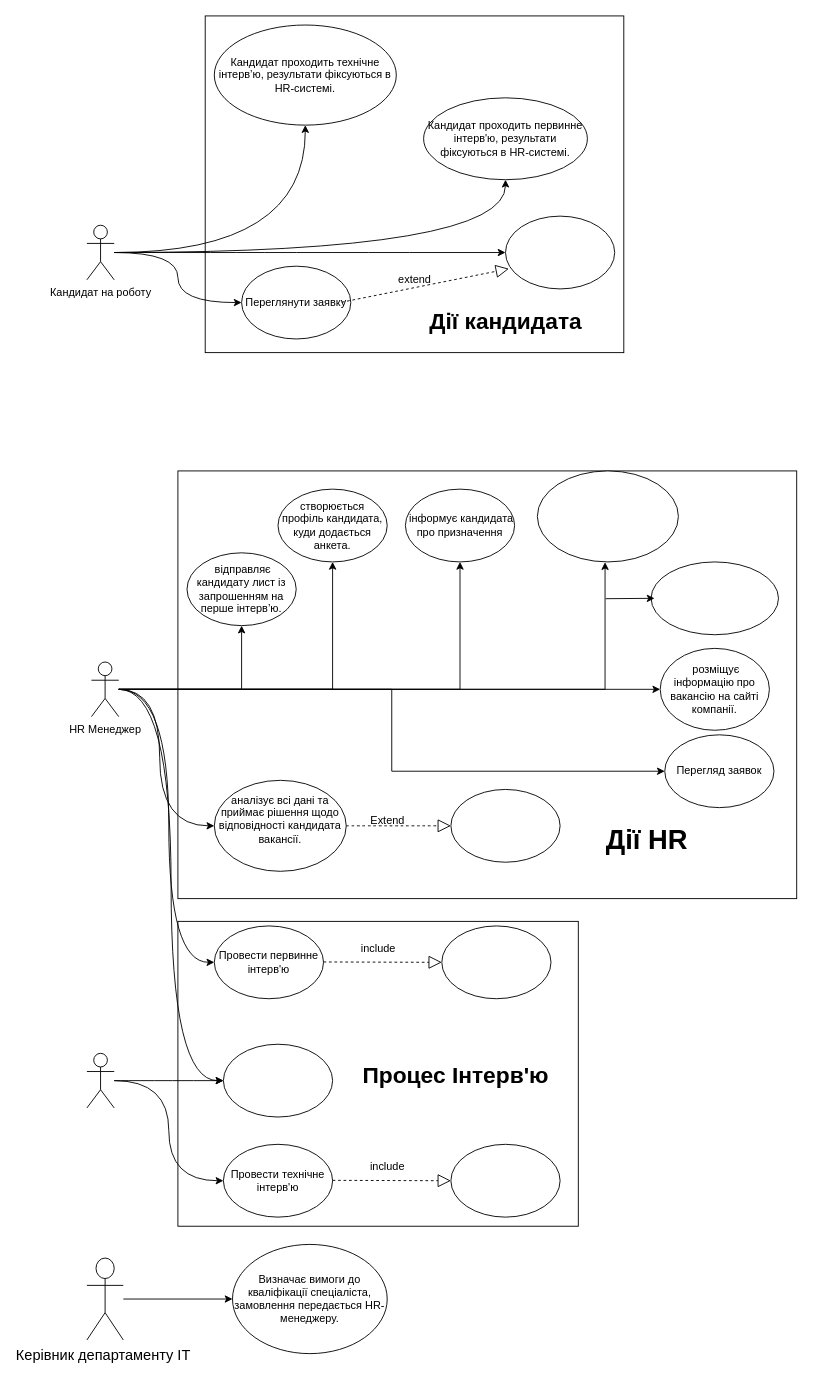
This 813x1380 diagram has some shape labels left out. The centre of each missing label's shape, as x and y in pixels:
"Визначають вимоги до кваліфікації спеціаліста" goes at pixel 714 598.
"Надсилання оферу" goes at pixel 505 825.
"направляє запит технічному спеціалісту для призначення часу інтерв’ю" goes at pixel 607 516.
"Оцінити soft skiils" goes at pixel 496 962.
"Оцінити технічні навички" goes at pixel 505 1180.
"Подати заявку" goes at pixel 560 252.
"Прийняти фінальне рішення" goes at pixel 277 1080.
"Технійчний лід" goes at pixel 100 1080.
